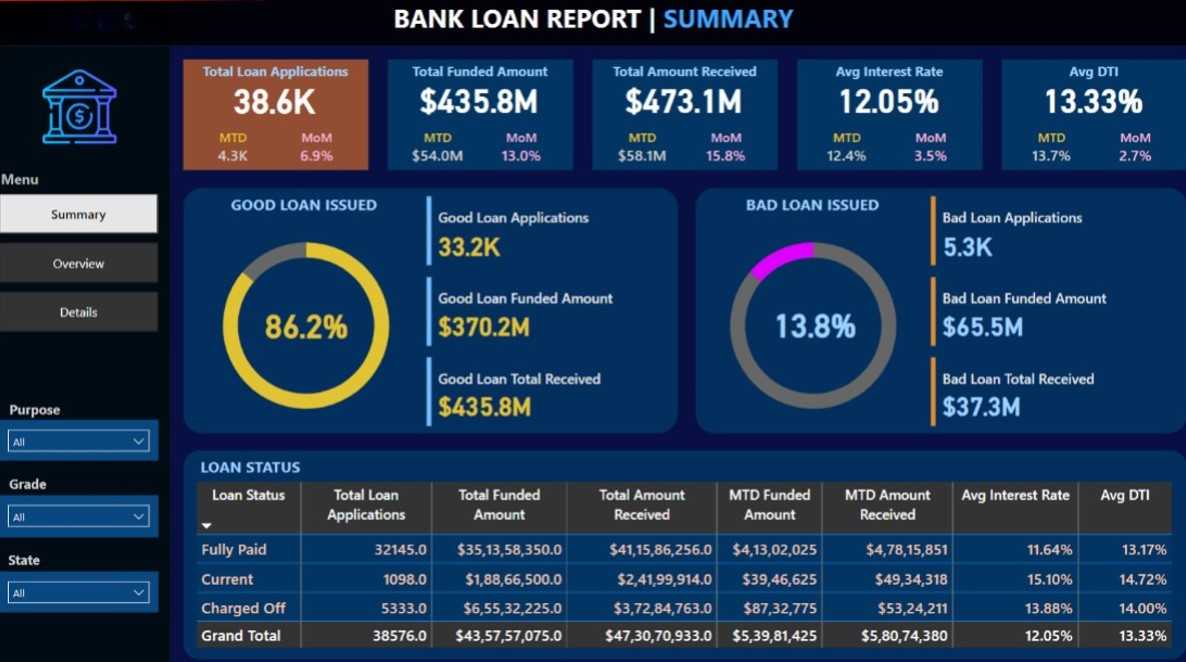

This screenshot's page, from the dashboard's own definition file:
{"tool":"powerbi","page":{"name":"Summary","canvas":[1280,720],"ordinal":0},"visuals":[{"type":"textbox","box":[179.6,55.1,195.2,117.4],"z":0},{"type":"card","fields":{"Values":["Measures (2).Total Loan Application"]},"box":[179.6,81.4,195.2,32.3],"z":1000},{"type":"shape","box":[0,0,1280,55.1],"z":2000},{"type":"shape","box":[0,4.8,179.6,715],"z":3000},{"type":"textbox","box":[400,4.8,462.3,46.7],"z":4000},{"type":"textbox","box":[179,61.1,196.1,52.6],"z":5000},{"type":"card","title":"MTD","fields":{"Values":["Measures (2).MTD LOAN APPLICATIONS"]},"box":[191.6,118.6,52.7,43.1],"z":6000},{"type":"textbox","box":[287,113.7,66.8,59.7],"z":7000},{"type":"textbox","box":[383.7,55.4,194.7,115.1],"z":8000},{"type":"textbox","box":[383.7,61.1,200.4,31.3],"z":9000},{"type":"textbox","box":[501.6,113.7,62.5,61.1],"z":10000},{"type":"card","title":"MTD","fields":{"Values":["Measures (2).MTD"]},"box":[383.7,119.4,68.2,49.7],"z":11000},{"type":"card","fields":{"Values":["Measures (2).Total Funded Amount"]},"box":[413.5,66.8,136.4,61.1],"z":12000},{"type":"textbox","box":[584,55.4,230.2,113.7],"z":13000},{"type":"textbox","box":[724.7,113.7,72.5,62.5],"z":14000},{"type":"card","fields":{"Values":["Measures (2).TOTAL AMOUNT RECIEVED"]},"box":[639.4,81,127.9,44],"z":15000},{"type":"textbox","box":[578.3,61.1,235.9,36.9],"z":16000},{"type":"card","title":"MTD","fields":{"Values":["Measures (2).MTD TOTAL AMOUNT RECIEVED"]},"box":[584,117.9,83.8,51.2],"z":17000},{"type":"textbox","box":[824.2,55.4,235.9,115.1],"z":18000},{"type":"textbox","box":[1070,55.4,210.3,113.7],"z":19000},{"type":"textbox","box":[824.2,62.5,235.9,35.5],"z":20000},{"type":"card","fields":{"Values":["Measures (2).MTD AVERAGE INTREST RATE"]},"box":[824.2,82.4,235.9,32.7],"z":21000},{"type":"textbox","box":[964.8,112.3,79.6,56.8],"z":22000},{"type":"card","title":"MTD","fields":{"Values":["Measures (2).MTD AVERAGE INTREST RATE"]},"box":[852.6,115.1,55.4,49.7],"z":23000},{"type":"textbox","box":[1070,61.1,210.3,31.3],"z":24000},{"type":"textbox","box":[1189.3,108,79.6,56.8],"z":25000},{"type":"card","fields":{"Values":["Measures (2).AVERAGE DTI"]},"box":[1070,81,198.9,46.9],"z":26000},{"type":"card","title":"MTD","fields":{"Values":["Measures (2).MTD AVG DTI"]},"box":[1070,115.1,95.2,54],"z":27000},{"type":"shape","box":[191.8,187.6,521.5,260],"z":28000},{"type":"shape","box":[724.7,187.6,521.5,260],"z":29000},{"type":"shape","box":[191.8,460.4,1054.4,245.8],"z":30000},{"type":"donutChart","fields":{"Category":["financial_loan.GOOD VS BAD LOAN"],"Y":["Measures (2).Total Loan Application"]},"box":[218,244.3,233.5,184.4],"z":31000},{"type":"card","fields":{"Values":["Measures (2).GOOD LOAN %"]},"box":[287.4,298.2,112.6,76.6],"z":32000},{"type":"textbox","box":[232.3,204.8,219.2,39.5],"z":33000},{"type":"cardVisual","fields":{"Data":["Measures (2).GOOD LOAN APPLICATIONS","Measures (2).GOOD LOAN FUNDED AMOUNT","Measures (2).GOOD LOAN TOTAL RECIEVED"]},"box":[451.5,188,247.9,259.9],"z":34000},{"type":"cardVisual","fields":{"Data":["Measures (2).BAD LOAN APPLICATIONS","Measures (2).BAD LOAN FUNDED AMOUNT","Measures (2).BAD LOAN TOTAL RECIEVED"]},"box":[965.3,196.4,263.5,241.9],"z":35000},{"type":"donutChart","fields":{"Category":["financial_loan.GOOD VS BAD LOAN"],"Y":["Measures (2).Total Loan Application"]},"box":[735.3,244.3,220.4,184.4],"z":36000},{"type":"card","fields":{"Values":["Measures (2).BAD LOAN %"]},"box":[797.6,306.6,88.6,58.7],"z":37000},{"type":"textbox","box":[741.3,204.8,209.6,39.5],"z":38000},{"type":"tableEx","fields":{"Values":["financial_loan.loan_status","Measures (2).Total Loan Application","Measures (2).Total Funded Amount","Measures (2).TOTAL AMOUNT RECIEVED","Measures (2).MTD","Measures (2).MTD TOTAL AMOUNT RECIEVED","Measures (2).AVERAGE INTREST RATE","Measures (2).AVERAGE DTI"]},"box":[209,511.7,1019.1,185.9],"z":39000},{"type":"textbox","box":[214.8,472.8,185.9,38.9],"z":40000},{"type":"slicer","fields":{"Values":["financial_loan.address_state"]},"box":[0,387.7,178.7,46.1],"z":41000},{"type":"slicer","fields":{"Values":["financial_loan.grade"]},"box":[0,474.2,178.7,46.1],"z":41001},{"type":"slicer","fields":{"Values":["financial_loan.purpose"]},"box":[0,572.3,178.7,46.1],"z":41002},{"type":"textbox","box":[0,353.2,62,27.4],"z":41003},{"type":"textbox","box":[0,446.8,62,27.4],"z":41004},{"type":"textbox","box":[1.4,533.3,86.5,27.4],"z":41005},{"type":"image","box":[12,4.8,144.9,140.1],"z":41006},{"type":"pageNavigator","box":[0,165.3,179.6,153.3],"z":41007}]}

Visuals, with their boxes in screenshot pixels (x1, y1, x2, y2), scaled from the page's 1280x720 canvas onto the 1186x662 screenshot:
textbox: (166, 51, 347, 159)
card - Measures (2).Total Loan Application: (166, 75, 347, 105)
shape: (0, 0, 1185, 51)
shape: (0, 4, 166, 661)
textbox: (371, 4, 799, 47)
textbox: (166, 56, 348, 105)
"MTD" card: (178, 109, 226, 149)
textbox: (266, 105, 328, 159)
textbox: (356, 51, 536, 157)
textbox: (356, 56, 541, 85)
textbox: (465, 105, 523, 161)
"MTD" card: (356, 110, 419, 155)
card - Measures (2).Total Funded Amount: (383, 61, 510, 118)
textbox: (541, 51, 754, 155)
textbox: (671, 105, 739, 162)
card - Measures (2).TOTAL AMOUNT RECIEVED: (592, 74, 711, 115)
textbox: (536, 56, 754, 90)
"MTD" card: (541, 108, 619, 155)
textbox: (764, 51, 982, 157)
textbox: (991, 51, 1185, 155)
textbox: (764, 57, 982, 90)
card - Measures (2).MTD AVERAGE INTREST RATE: (764, 76, 982, 106)
textbox: (894, 103, 968, 155)
"MTD" card: (790, 106, 841, 152)
textbox: (991, 56, 1185, 85)
textbox: (1102, 99, 1176, 152)
card - Measures (2).AVERAGE DTI: (991, 74, 1176, 118)
"MTD" card: (991, 106, 1080, 155)
shape: (178, 172, 661, 412)
shape: (671, 172, 1155, 412)
shape: (178, 423, 1155, 649)
donutChart - financial_loan.GOOD VS BAD LOAN x Measures (2).Total Loan Application: (202, 225, 418, 394)
card - Measures (2).GOOD LOAN %: (266, 274, 371, 345)
textbox: (215, 188, 418, 225)
cardVisual - Measures (2).GOOD LOAN APPLICATIONS x Measures (2).GOOD LOAN FUNDED AMOUNT: (418, 173, 648, 412)
cardVisual - Measures (2).BAD LOAN APPLICATIONS x Measures (2).BAD LOAN FUNDED AMOUNT: (894, 181, 1139, 403)
donutChart - financial_loan.GOOD VS BAD LOAN x Measures (2).Total Loan Application: (681, 225, 886, 394)
card - Measures (2).BAD LOAN %: (739, 282, 821, 336)
textbox: (687, 188, 881, 225)
tableEx - financial_loan.loan_status x Measures (2).Total Loan Application: (194, 470, 1138, 641)
textbox: (199, 435, 371, 470)
slicer - financial_loan.address_state: (0, 356, 166, 399)
slicer - financial_loan.grade: (0, 436, 166, 478)
slicer - financial_loan.purpose: (0, 526, 166, 569)
textbox: (0, 325, 57, 350)
textbox: (0, 411, 57, 436)
textbox: (1, 490, 81, 516)
image: (11, 4, 145, 133)
pageNavigator: (0, 152, 166, 293)
